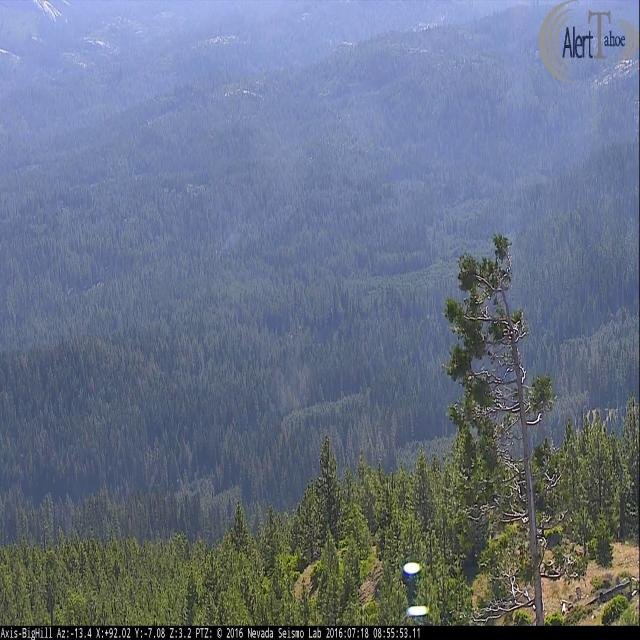smoke: (212, 208, 256, 260)
